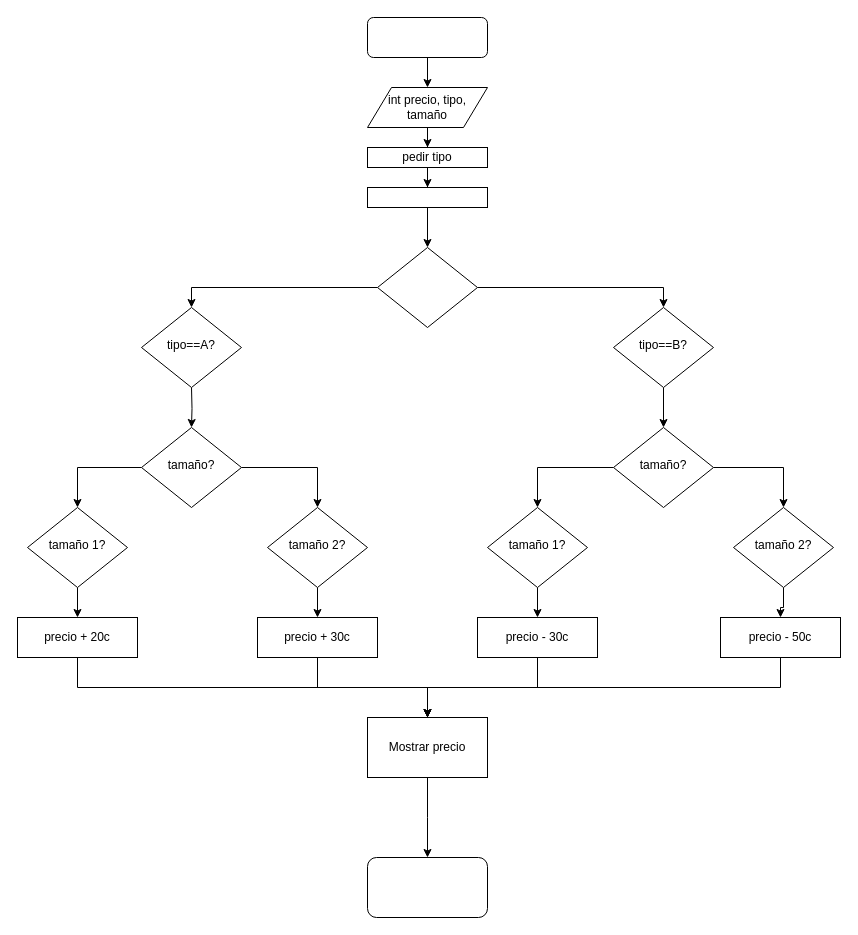
Some shapes in this 858 by 935 pixel diagram are drawn without their labels. The shapes that lost their labels are listed below. From the top down, each one's centre as x and y in pixels, then its label:
At point 427,37: "Inicio".
At point 427,197: "pedir tamaño".
At point 427,287: "tipo?".
At point 427,887: "fin".
